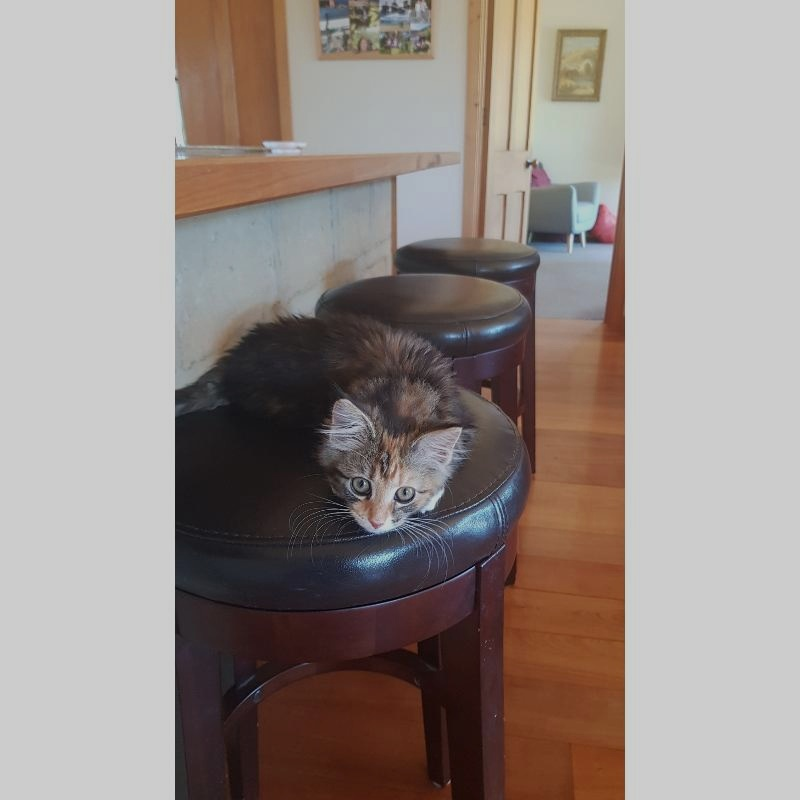red: (218, 314, 474, 538)
